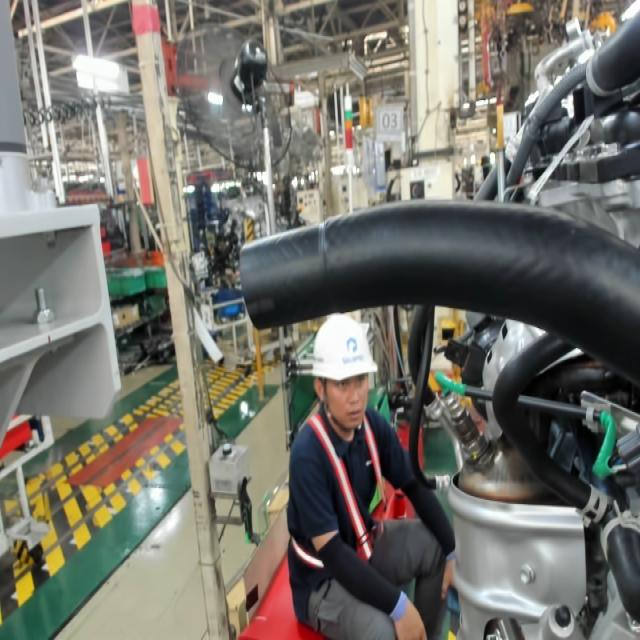Hose Radiator-PC: (248, 290, 283, 318)
